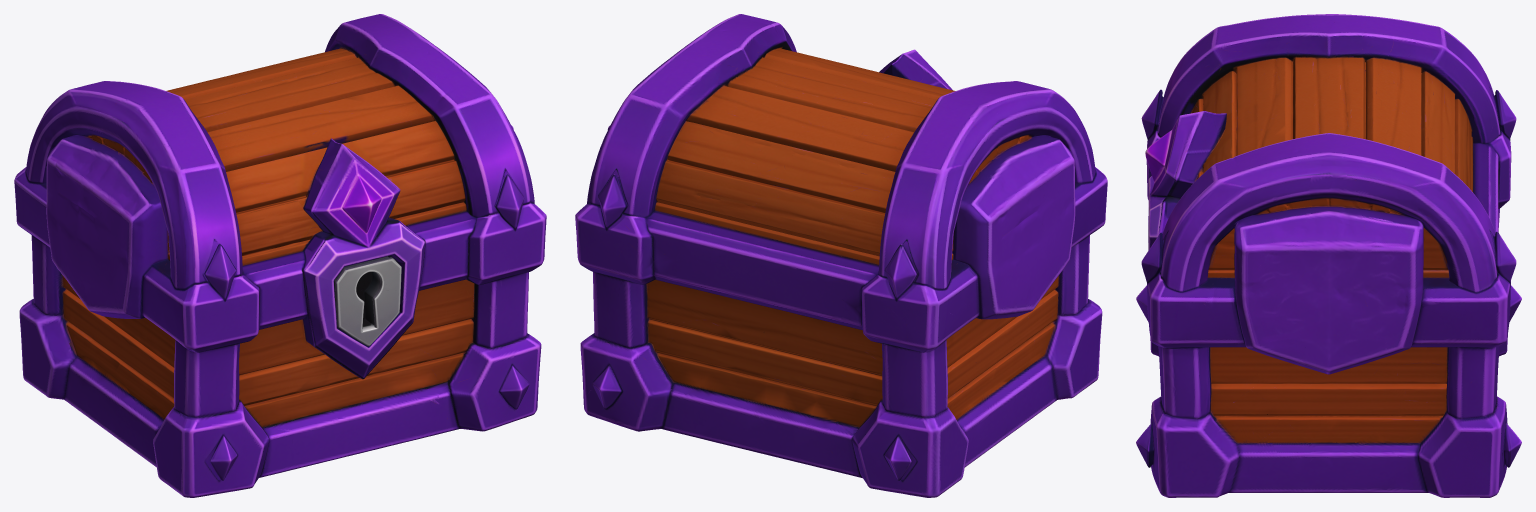
Rendered from Bau_Épico.glb.
3 views of the same model, side by side, from view 1: azimuth 30°, elevation 25°; view 2: azimuth 150°, elevation 25°; view 3: azimuth 270°, elevation 25° (orthographic).
Size of the model in its own units: 1.9 by 1.53 by 1.63.
Materials: 1 (1 with a texture image).
